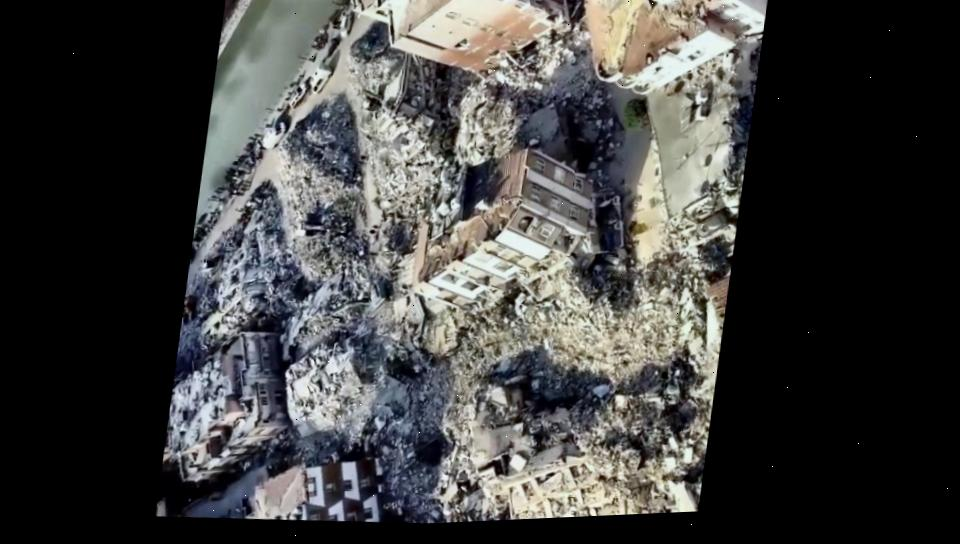kapali: (602, 164, 705, 513)
